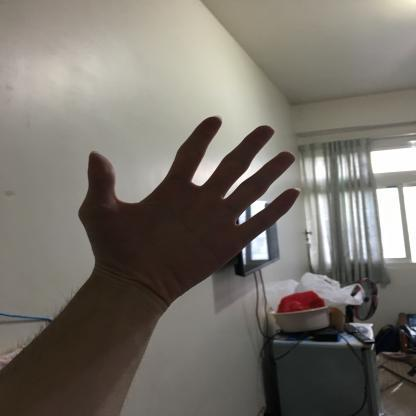bare_hand: (68, 104, 313, 302)
